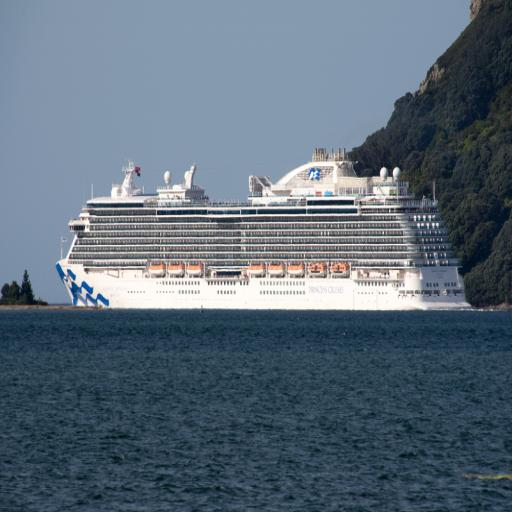cruises: (53, 143, 474, 320)
